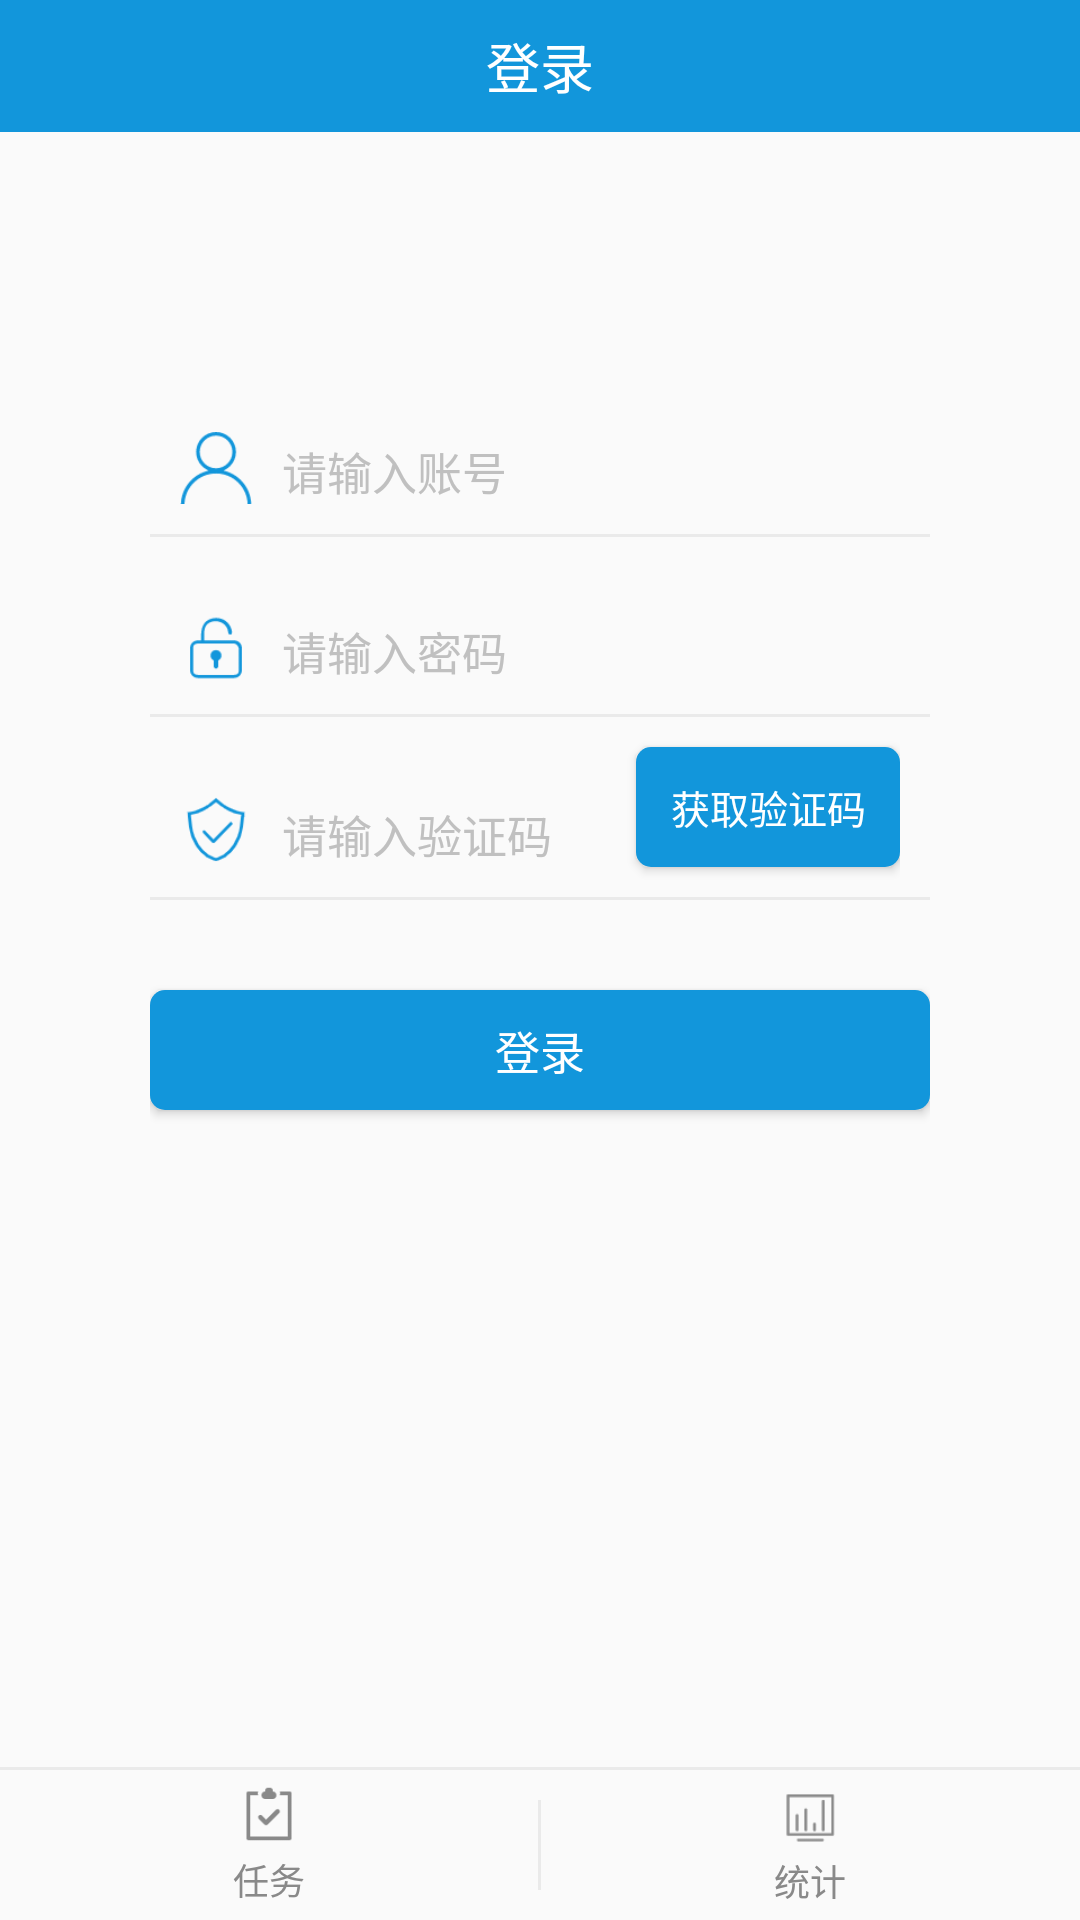

Named icons in this screenshot (1080 x 1920) and their bounding boxes, (x1, y1, x2, y2):
login account: (180, 432, 252, 504)
login code: (187, 798, 245, 861)
login pwd: (190, 617, 242, 679)
